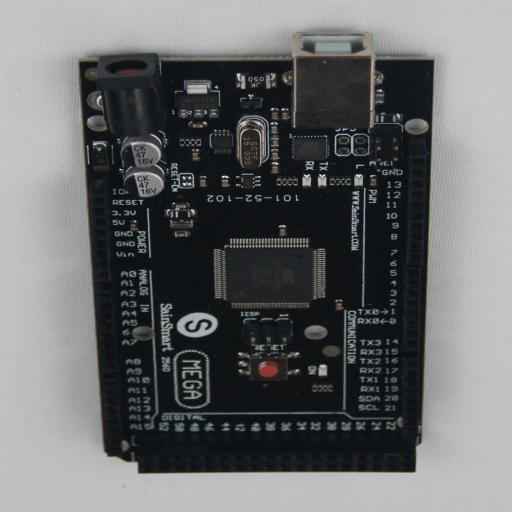Arduino Mega 2560 -Black-: (80, 34, 434, 473)
